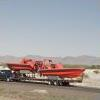Boat: (6, 50, 87, 90)
